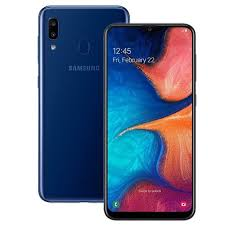samsung: (101, 22, 197, 220), (34, 4, 130, 202)
